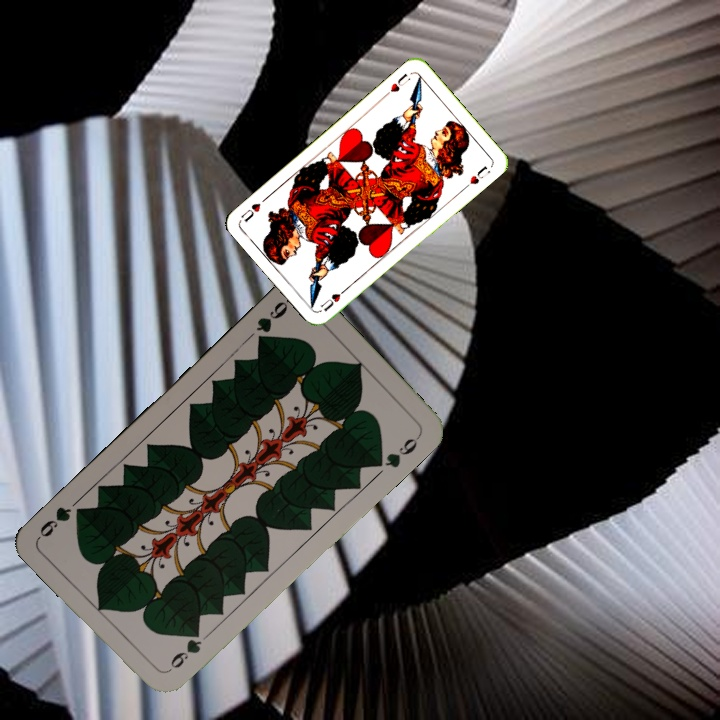G9: (252, 295, 292, 348), (164, 626, 205, 675)
HU: (316, 283, 350, 314), (380, 69, 413, 99)
